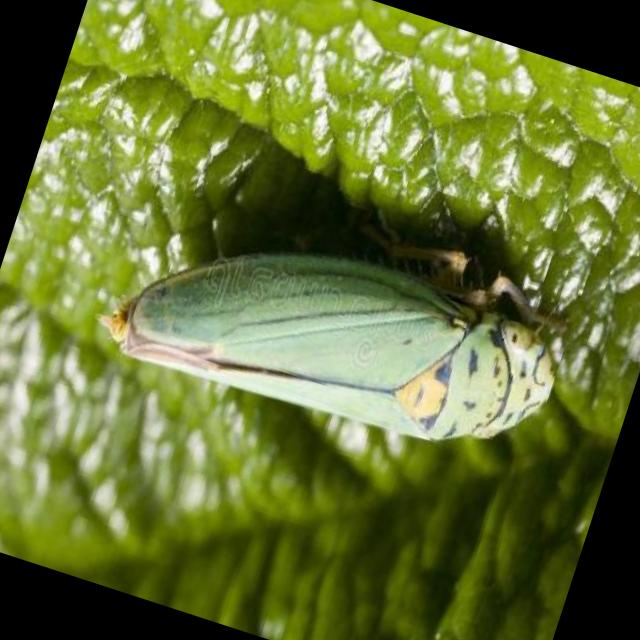green-leafhopper: (104, 175, 578, 490)
